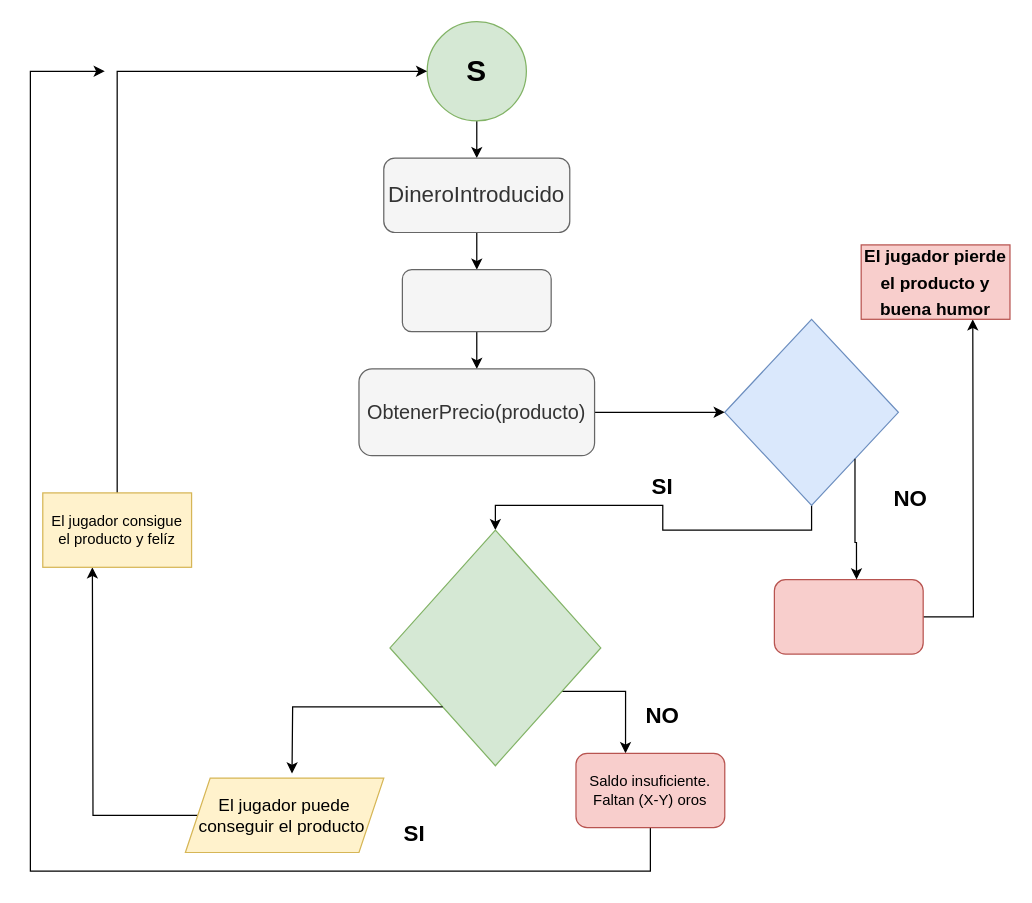
Image size: 1032x903. Some labels were removed from this diagram. Here are the shapes that lost their labels. From the top down, the centre of each, then its label:
point (476, 300): ProductoElegido
point (811, 411): Si precio más que zero ?
point (848, 616): Producto no válido
point (495, 647): Si el saldo es más o igual que el precio?
